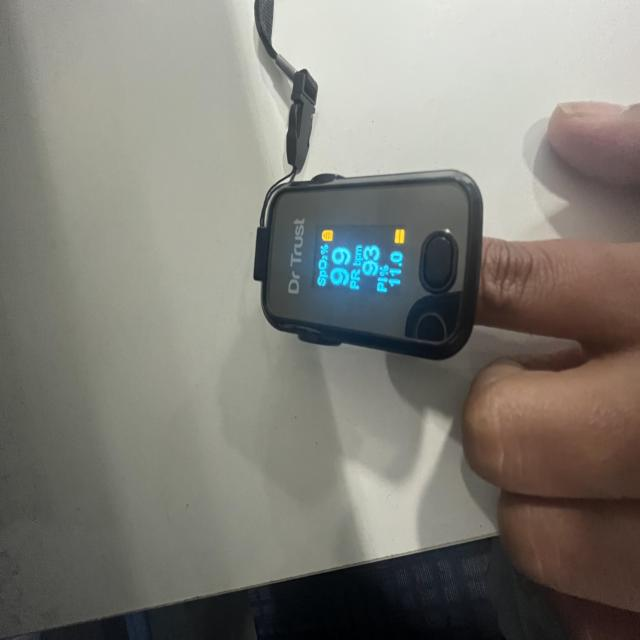spo2: (254, 170, 485, 361)
